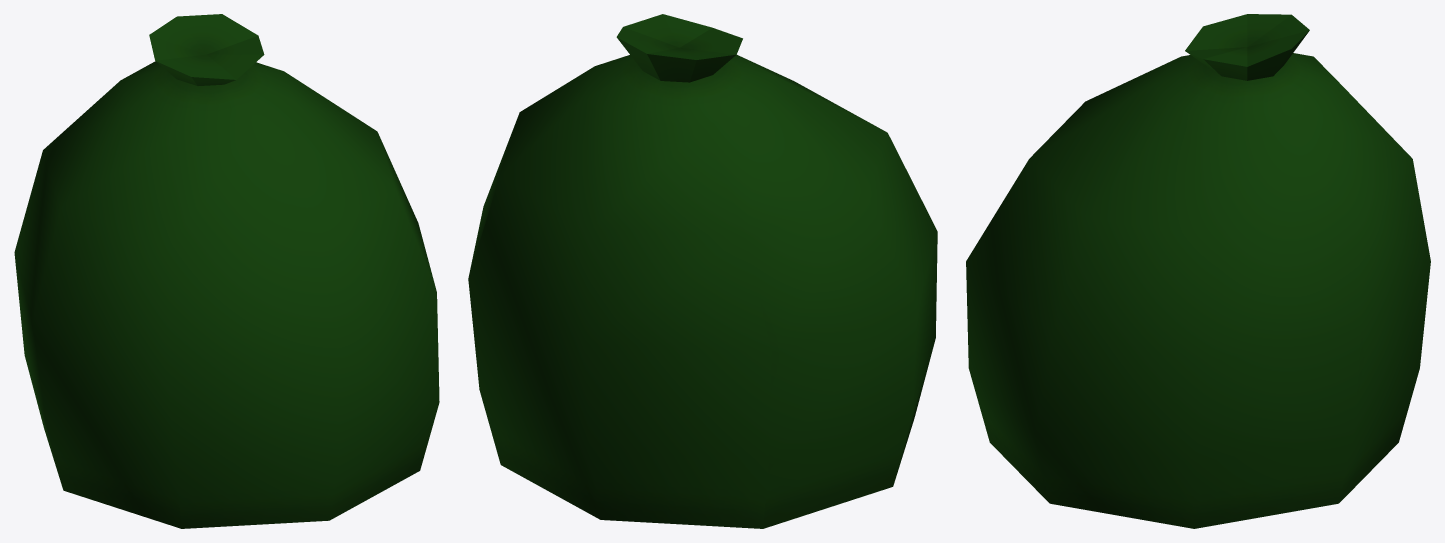
File: vuilniszak.fbx
3 views of the same model, side by side, from view 1: azimuth 30°, elevation 25°; view 2: azimuth 150°, elevation 25°; view 3: azimuth 270°, elevation 25° (orthographic). The views are drawn at different scales.
Visible parts, largest first — view 1: pCylinder10; view 2: pCylinder10; view 3: pCylinder10.
Part boxes in pixels (x1,y1,x2,y2): pCylinder10: (14, 14, 439, 528); pCylinder10: (468, 14, 937, 528); pCylinder10: (966, 14, 1430, 528).
Bounding box in the file's own units: 2.56 × 2.46 × 2.51.
